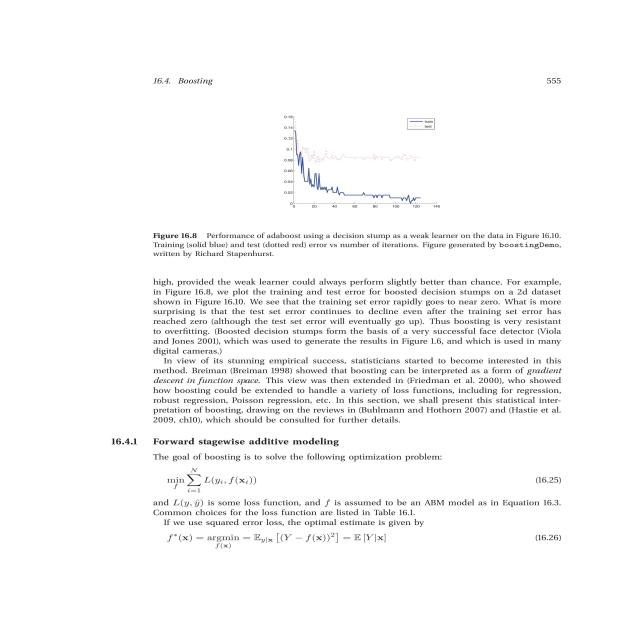diagram: (107, 85, 611, 260)
